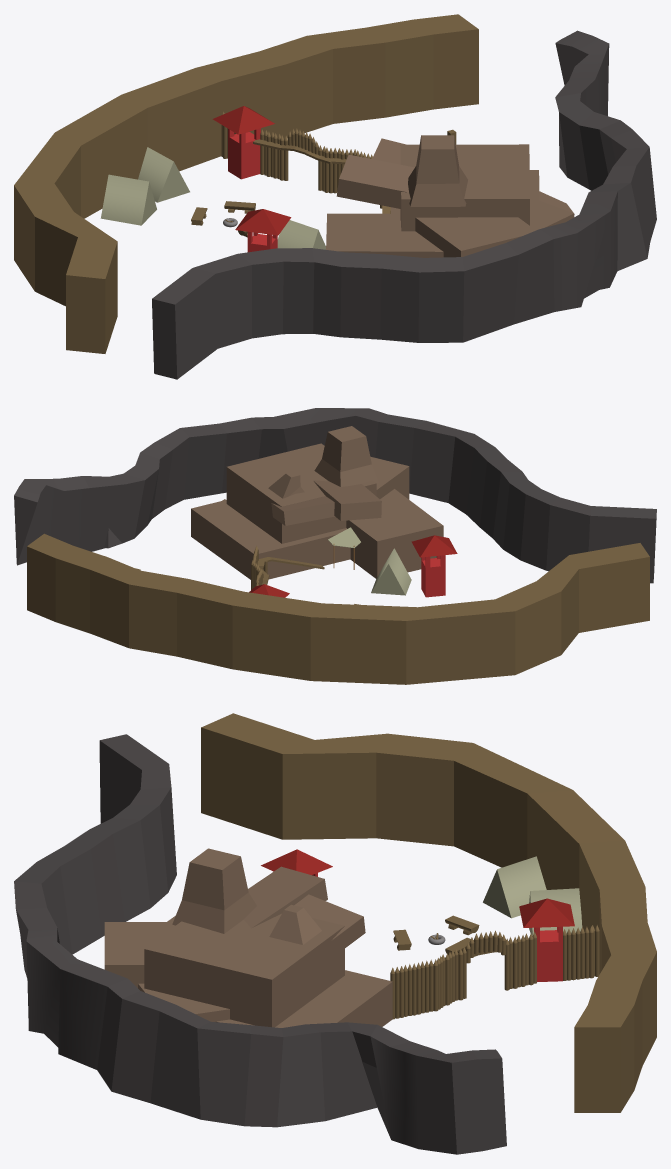
Rendered from zone1.fbx.
3 renders of one model, top to bottom at view 1: azimuth 30°, elevation 25°; view 2: azimuth 150°, elevation 25°; view 3: azimuth 270°, elevation 25°, orthographic. The views are drawn at different scales.
Parts seen in each view (by area): view 1: Cube.002, pCube1, Cube.004, Cube.005, Cube.003, pasted__pasted__pCube4, pCube6, pasted__pCube6, pasted__pCube4, pasted__pasted__pCube6; view 2: pCube1, Cube.002, Cube.004, Cube.005, pasted__pCube4, Cube.003, pasted__pasted__pCube6, pCube5; view 3: Cube.002, pCube1, Cube.004, Cube.003, pasted__pasted__pCube4, pCube6, pasted__pCube6, pasted__pCube4.
Boxes of the visible parts, box(x1,y1,x2,y2) form: Cube.002: box(152, 30, 656, 379); pCube1: box(14, 14, 478, 353); Cube.004: box(336, 135, 574, 231); Cube.005: box(326, 213, 443, 257); Cube.003: box(400, 209, 535, 257); pasted__pasted__pCube4: box(212, 106, 274, 179); pCube6: box(100, 174, 156, 225); pasted__pCube6: box(138, 147, 189, 202); pasted__pCube4: box(235, 209, 291, 252); pasted__pasted__pCube6: box(277, 220, 325, 249); pCube1: box(27, 533, 649, 684); Cube.002: box(14, 408, 656, 583); Cube.004: box(191, 426, 381, 579); Cube.005: box(346, 489, 443, 578); pasted__pCube4: box(411, 535, 457, 597); Cube.003: box(370, 456, 409, 499); pasted__pasted__pCube6: box(371, 548, 411, 595); pCube5: box(328, 527, 360, 548); Cube.002: box(14, 734, 506, 1154); pCube1: box(201, 713, 656, 1112); Cube.004: box(138, 848, 392, 1027); Cube.003: box(104, 922, 175, 987); pasted__pasted__pCube4: box(519, 898, 574, 981); pCube6: box(483, 856, 546, 918); pasted__pCube6: box(529, 888, 582, 935); pasted__pCube4: box(261, 849, 332, 876).
Size of the model in its own units: 993 by 193 by 757.
